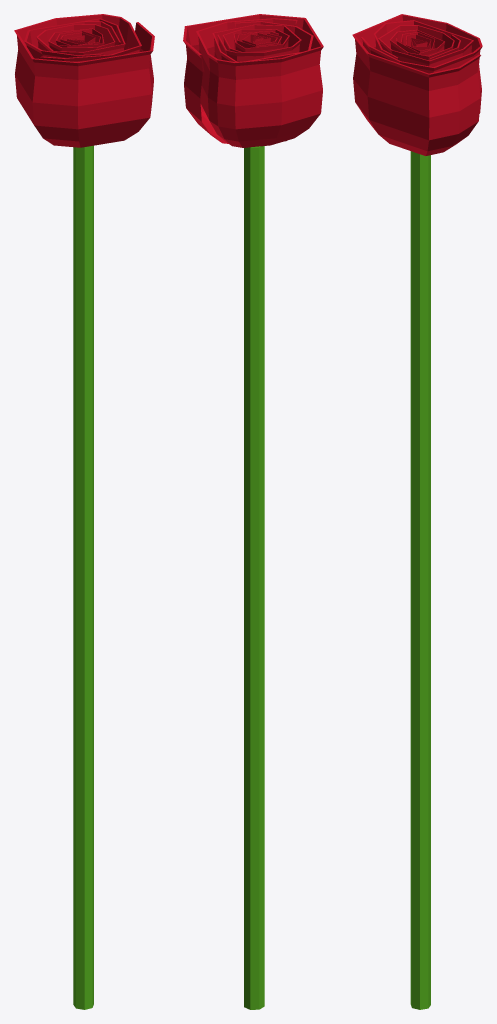
The model's file is rose_red.dae.
3 renders of one model, left to right at view 1: azimuth 30°, elevation 25°; view 2: azimuth 210°, elevation 25°; view 3: azimuth 330°, elevation 25°, orthographic.
Visible parts, largest first — view 1: Simple_GP_Layer; view 2: Simple_GP_Layer; view 3: Simple_GP_Layer.
Boxes of the visible parts, bbox=[...] form: Simple_GP_Layer: bbox=[14, 14, 154, 1009]; Simple_GP_Layer: bbox=[183, 14, 323, 1009]; Simple_GP_Layer: bbox=[352, 14, 482, 1009].
Size of the model in its own units: 1.29 by 1.1 by 10.11.
